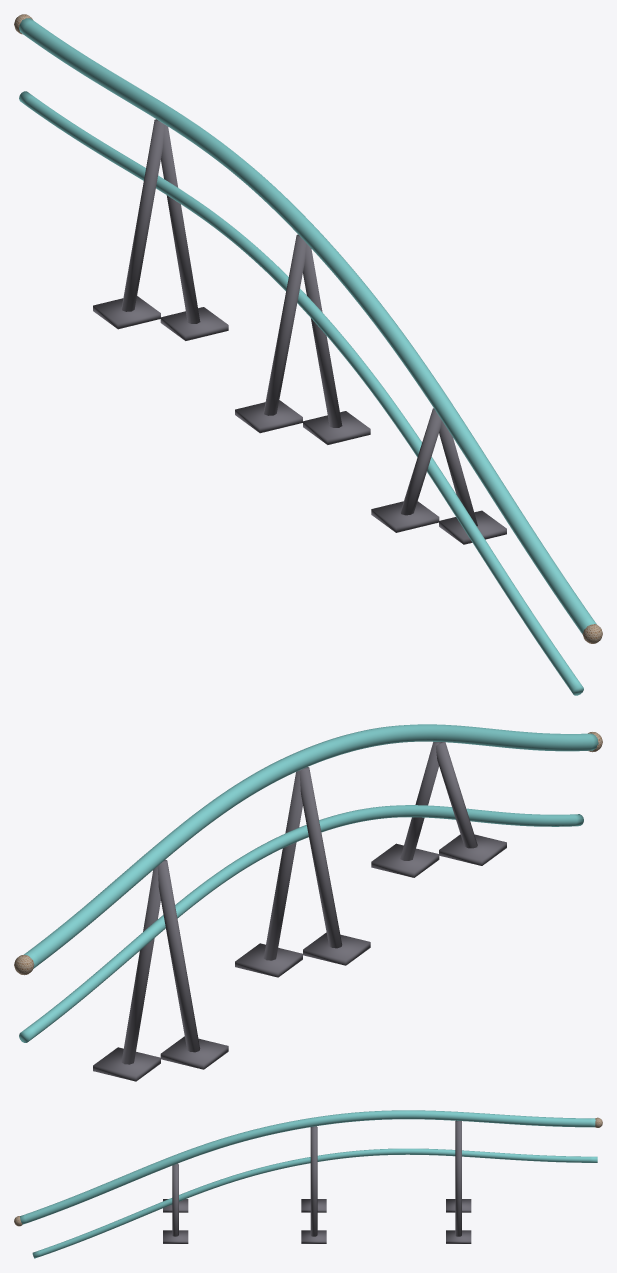
File: Rail_Double.glb
3 views of the same model, one above another, from view 1: azimuth 30°, elevation 25°; view 2: azimuth 150°, elevation 25°; view 3: azimuth 270°, elevation 25° (orthographic). The views are drawn at different scales.
Parts seen in each view (by area): view 1: Rail_Double_Rail; view 2: Rail_Double_Rail; view 3: Rail_Double_Rail.
Part boxes in pixels (box(x1,y1,x2,y2)): Rail_Double_Rail: box(19, 18, 596, 695); Rail_Double_Rail: box(19, 724, 598, 1081); Rail_Double_Rail: box(20, 1110, 597, 1258).
Size of the model in its own units: 0.72 by 1.8 by 6.52.
Materials: 2 (1 with a texture image).
